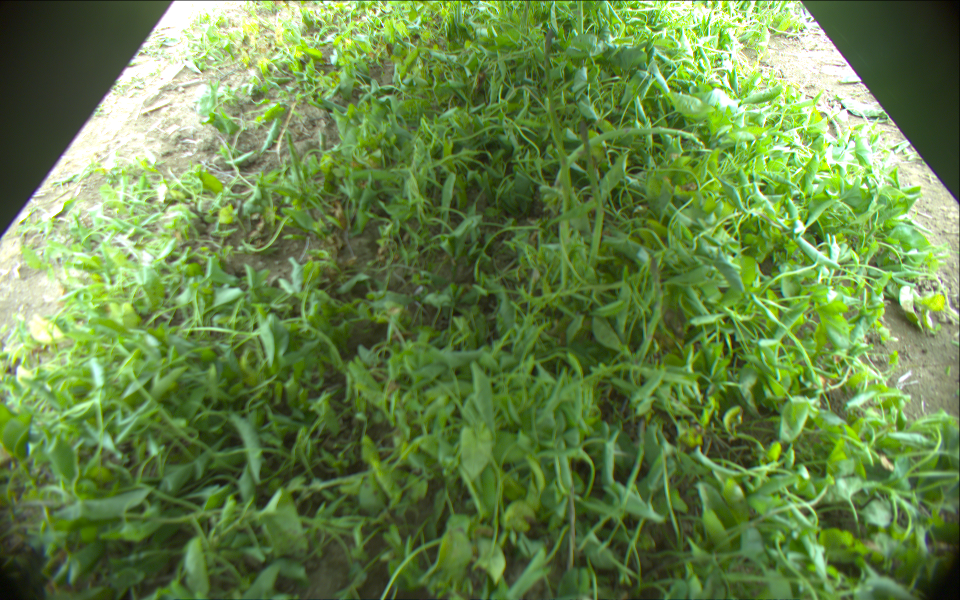aspa: (554, 126, 702, 190), (544, 29, 569, 288), (628, 253, 663, 373), (579, 116, 600, 274), (624, 419, 646, 504)
